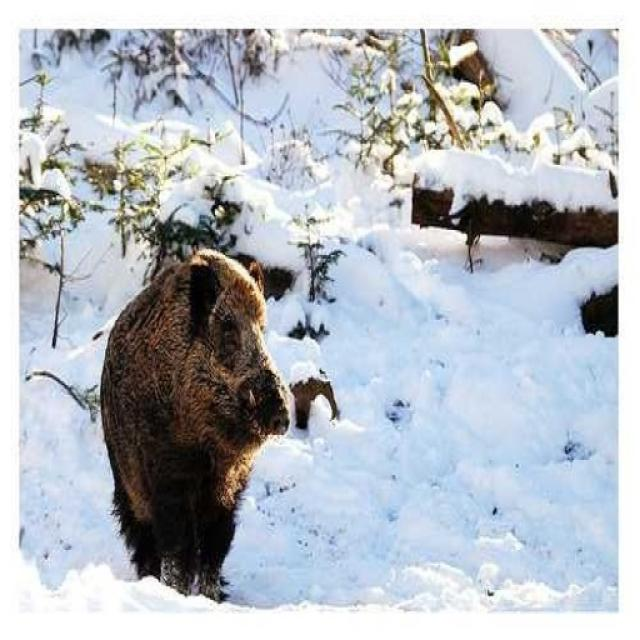pig: (79, 193, 345, 575)
